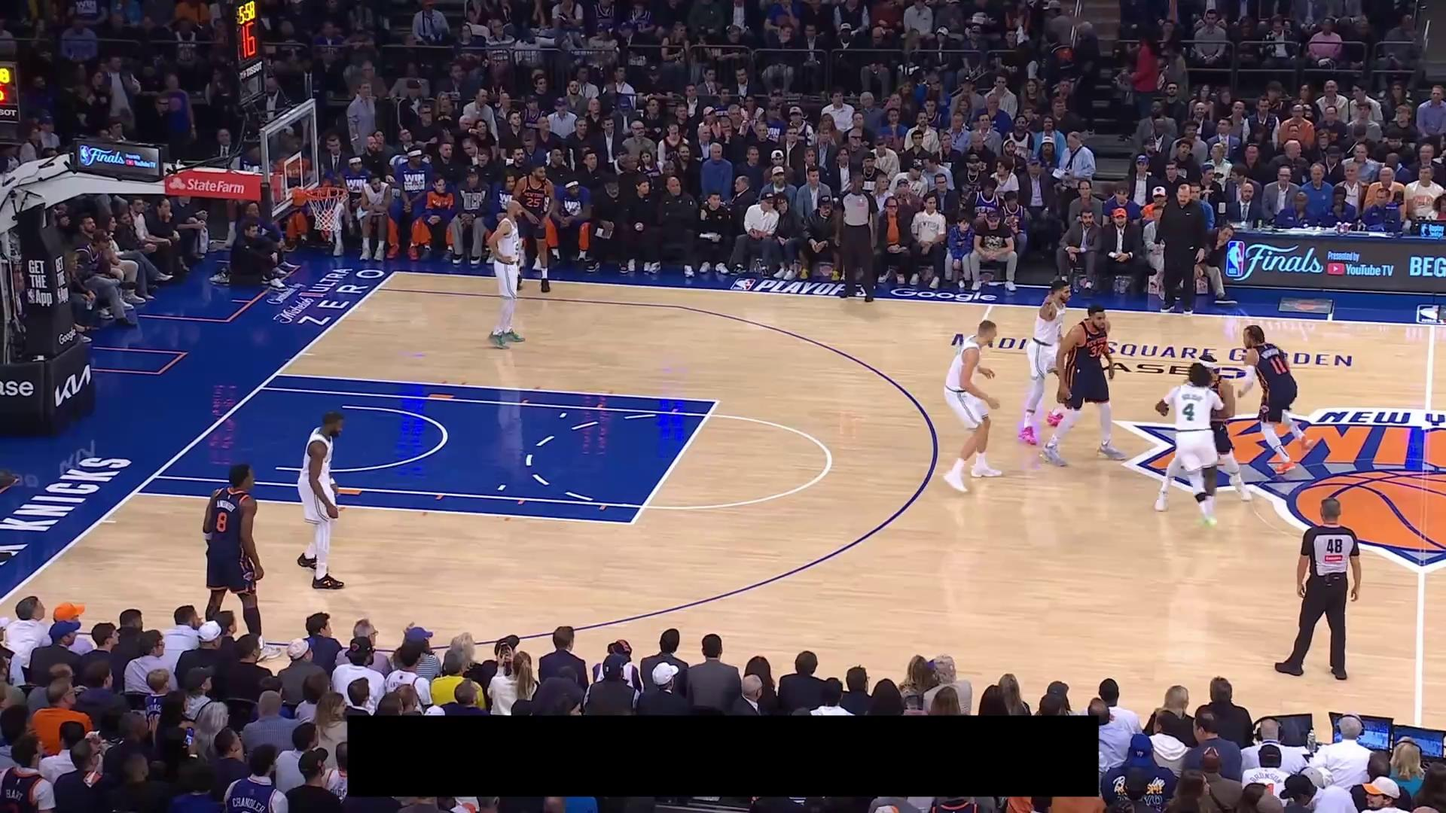number: (1269, 356, 1287, 375), (215, 510, 228, 533), (1182, 402, 1195, 422), (1090, 343, 1104, 358), (526, 196, 541, 208)
player: (200, 461, 285, 662), (1154, 353, 1253, 513), (1039, 303, 1129, 467), (1236, 324, 1328, 474), (1154, 360, 1224, 530), (941, 318, 1005, 495), (295, 409, 349, 592), (1015, 276, 1072, 446), (508, 161, 560, 294), (485, 198, 530, 350)
referee: (1274, 497, 1362, 681), (834, 172, 879, 303)
rim: (305, 186, 348, 200)
